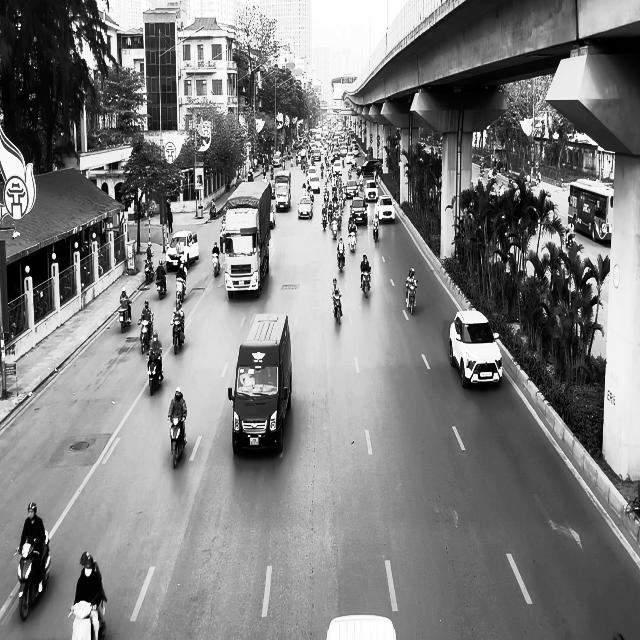bus: (567, 178, 613, 244)
car: (449, 308, 503, 389), (166, 230, 198, 271), (375, 195, 395, 223), (350, 197, 368, 226), (298, 196, 313, 219)
motorbike: (15, 531, 51, 621), (168, 413, 186, 468), (146, 348, 164, 395), (171, 314, 185, 354), (118, 298, 132, 333), (138, 318, 150, 353), (405, 281, 417, 314), (360, 268, 371, 298), (332, 294, 342, 326), (175, 275, 186, 303), (156, 273, 167, 299), (564, 225, 576, 248), (348, 224, 357, 252), (144, 259, 154, 283), (212, 252, 220, 277), (337, 246, 345, 271), (372, 220, 379, 242)
truck: (228, 312, 292, 455), (223, 180, 272, 299)
